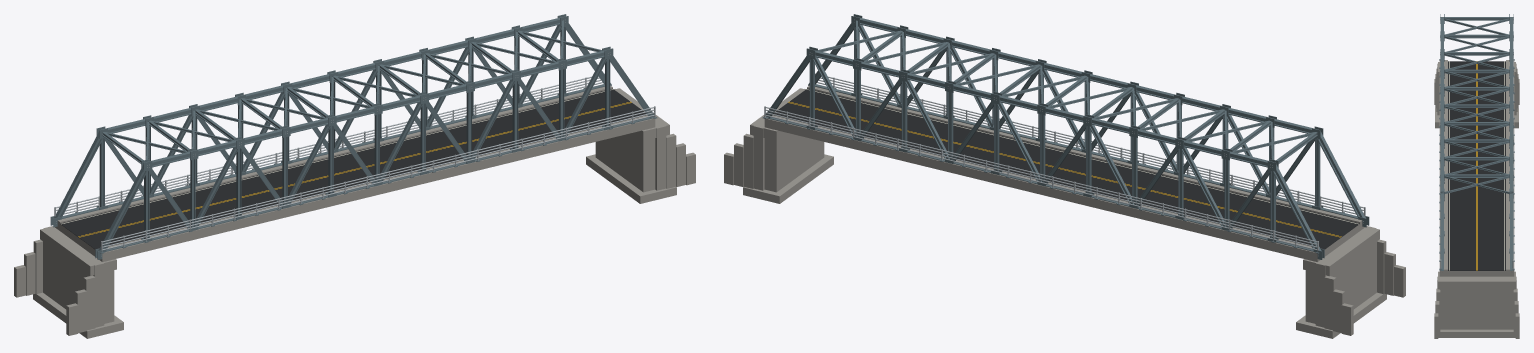
The model's file is throughTruss.obj.
3 renders of one model, left to right at view 1: azimuth 30°, elevation 25°; view 2: azimuth 150°, elevation 25°; view 3: azimuth 270°, elevation 25°, orthographic. The views are drawn at different scales.
Parts seen in each view (by area): view 1: truss@paintedSteel, asphalt.bridge@asphalt, abutment@concrete, railing@galvanizedSteel, deck@concrete, sidewalk@concrete, connection@paintedSteel, footing@concrete, cap@concrete, marking@yellowPaint, marking@whitePaint; view 2: truss@paintedSteel, asphalt.bridge@asphalt, abutment@concrete, railing@galvanizedSteel, deck@concrete, sidewalk@concrete, connection@paintedSteel, footing@concrete, cap@concrete, marking@yellowPaint, marking@whitePaint; view 3: asphalt.bridge@asphalt, truss@paintedSteel, abutment@concrete, sidewalk@concrete, cap@concrete, footing@concrete, connection@paintedSteel, deck@concrete, marking@yellowPaint, marking@whitePaint, railing@galvanizedSteel.
Part boxes in pixels (x1,y1,x2,y2): truss@paintedSteel: (54, 17, 654, 251); asphalt.bridge@asphalt: (60, 88, 646, 249); abutment@concrete: (14, 89, 695, 335); railing@galvanizedSteel: (54, 73, 655, 251); deck@concrete: (55, 120, 655, 261); sidewalk@concrete: (57, 85, 655, 254); connection@paintedSteel: (50, 14, 657, 259); footing@concrete: (33, 154, 676, 338); cap@concrete: (40, 88, 669, 275); marking@yellowPaint: (78, 101, 631, 237); marking@whitePaint: (61, 89, 613, 224); truss@paintedSteel: (765, 17, 1365, 251); asphalt.bridge@asphalt: (773, 88, 1359, 249); abutment@concrete: (724, 89, 1405, 335); railing@galvanizedSteel: (764, 73, 1365, 251); deck@concrete: (764, 120, 1364, 261); sidewalk@concrete: (764, 85, 1362, 254); connection@paintedSteel: (762, 14, 1369, 259); footing@concrete: (743, 154, 1386, 338); cap@concrete: (750, 88, 1379, 275); marking@yellowPaint: (788, 101, 1341, 237); marking@whitePaint: (806, 89, 1358, 224); asphalt.bridge@asphalt: (1448, 61, 1505, 270); truss@paintedSteel: (1440, 17, 1513, 270); abutment@concrete: (1434, 63, 1519, 338); sidewalk@concrete: (1439, 60, 1514, 270); cap@concrete: (1438, 62, 1515, 289); footing@concrete: (1435, 108, 1518, 337); connection@paintedSteel: (1439, 14, 1514, 270); deck@concrete: (1439, 271, 1514, 276); marking@yellowPaint: (1476, 61, 1477, 270); marking@whitePaint: (1449, 61, 1504, 270); railing@galvanizedSteel: (1440, 59, 1513, 268).
Bounding box in the file's own units: 68.02 × 16.45 × 10.34.
